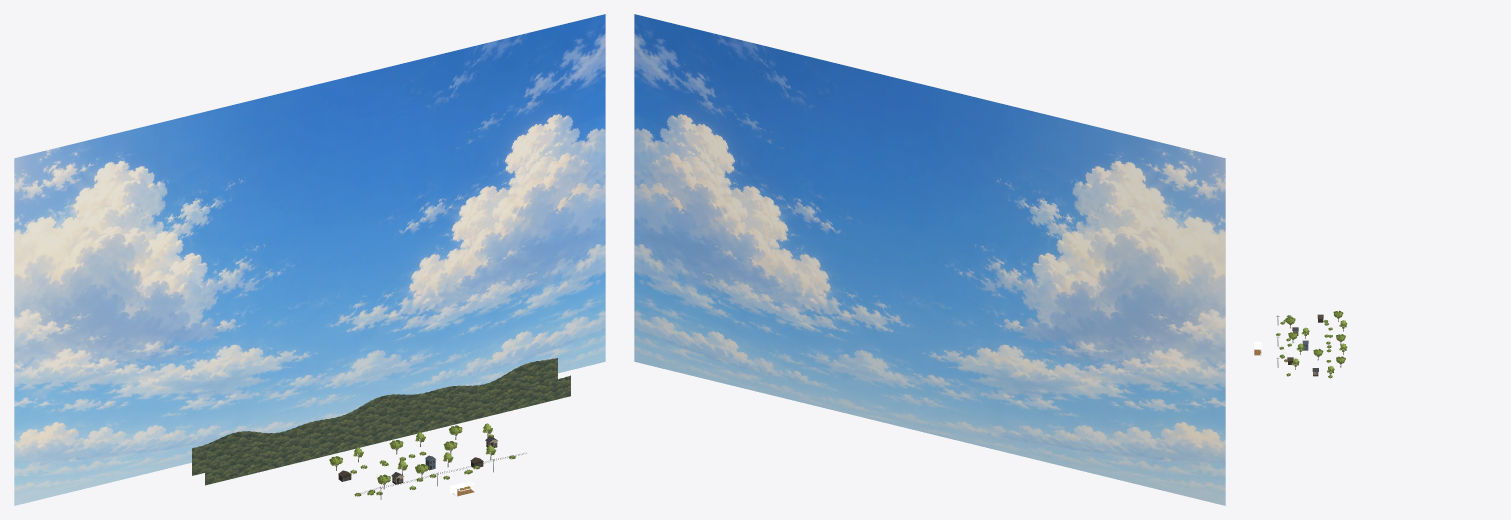
File: train-v06-optimized.glb
3 renders of one model, left to right at view 1: azimuth 30°, elevation 25°; view 2: azimuth 150°, elevation 25°; view 3: azimuth 270°, elevation 25°, orthographic. The views are drawn at different scales.
Parts seen in each view (by area): view 1: WEB_Sky | static textured plane, WEB_Distant ridge 0, WEB_Distant ridge 1; view 2: WEB_Sky | static textured plane; view 3: no part large enough to name.
Part boxes in pixels (x1=…): WEB_Sky | static textured plane: x1=14, y1=14, x2=605, y2=505; WEB_Distant ridge 0: x1=205, y1=375, x2=570, y2=485; WEB_Distant ridge 1: x1=192, y1=358, x2=557, y2=475; WEB_Sky | static textured plane: x1=634, y1=14, x2=1225, y2=505.
Size of the model in its own units: 210 by 118 by 96.44.
38 materials, 21 textured.
